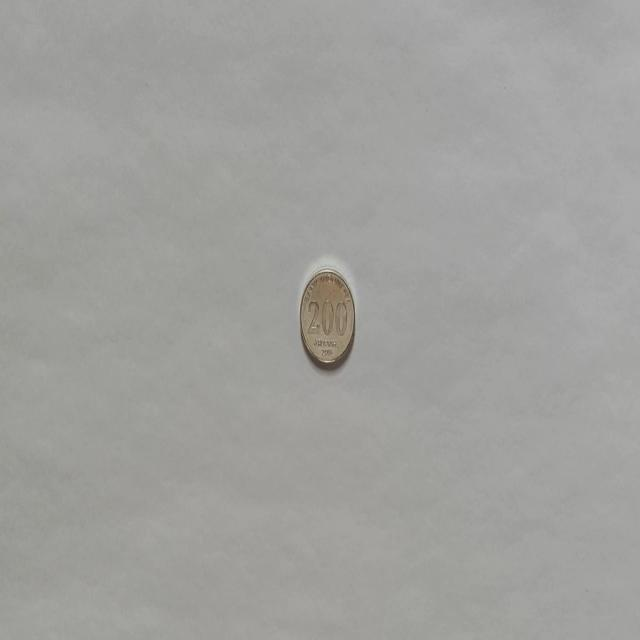dua ratus rupiah: (298, 266, 356, 368)
